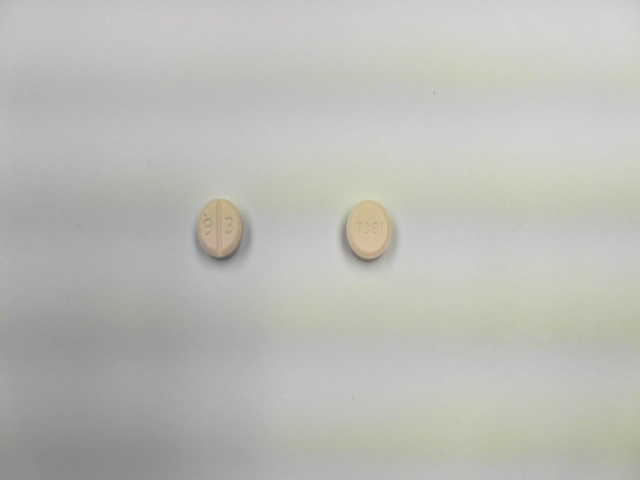1: (379, 221, 385, 236)
3: (222, 217, 234, 236), (363, 220, 370, 236)
7: (352, 219, 364, 236)
8: (370, 222, 379, 235)
9: (201, 216, 214, 240)
|: (213, 197, 223, 260)
